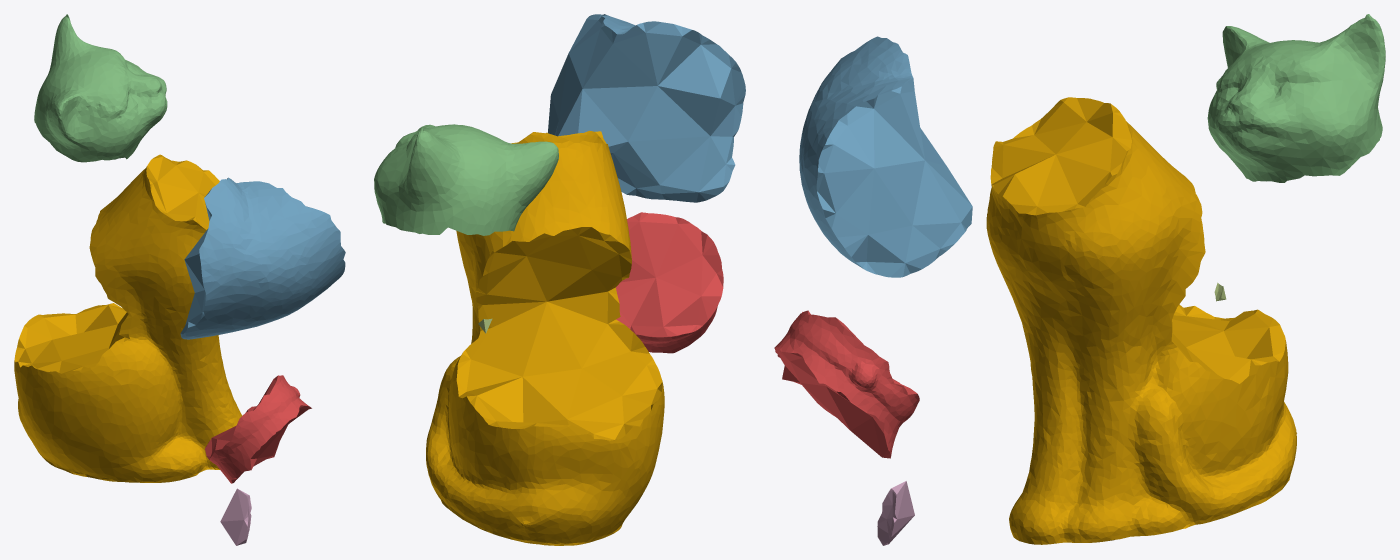
Rendered from fractured_47_7pcs_transformed.glb.
3 renders of one model, left to right at view 1: azimuth 30°, elevation 25°; view 2: azimuth 150°, elevation 25°; view 3: azimuth 270°, elevation 25°, orthographic. The views are drawn at different scales.
Parts seen in each view (by area): view 1: piece_0.obj, piece_2.obj, piece_3.obj, piece_1.obj, piece_6.obj; view 2: piece_0.obj, piece_2.obj, piece_3.obj, piece_1.obj; view 3: piece_0.obj, piece_2.obj, piece_3.obj, piece_1.obj, piece_6.obj.
Part boxes in pixels (box(x1,y1,x2,y2)): piece_0.obj: box(14, 154, 242, 482); piece_2.obj: box(180, 177, 345, 339); piece_3.obj: box(34, 14, 167, 162); piece_1.obj: box(205, 375, 311, 483); piece_6.obj: box(220, 488, 251, 545); piece_0.obj: box(426, 130, 664, 545); piece_2.obj: box(548, 14, 745, 202); piece_3.obj: box(374, 124, 558, 235); piece_1.obj: box(616, 212, 723, 353); piece_0.obj: box(986, 97, 1296, 544); piece_2.obj: box(799, 36, 972, 277); piece_3.obj: box(1207, 14, 1385, 182); piece_1.obj: box(774, 310, 919, 458); piece_6.obj: box(877, 481, 914, 545).
Bounding box in the file's own units: 0.5506 × 1.05 × 1.08.
